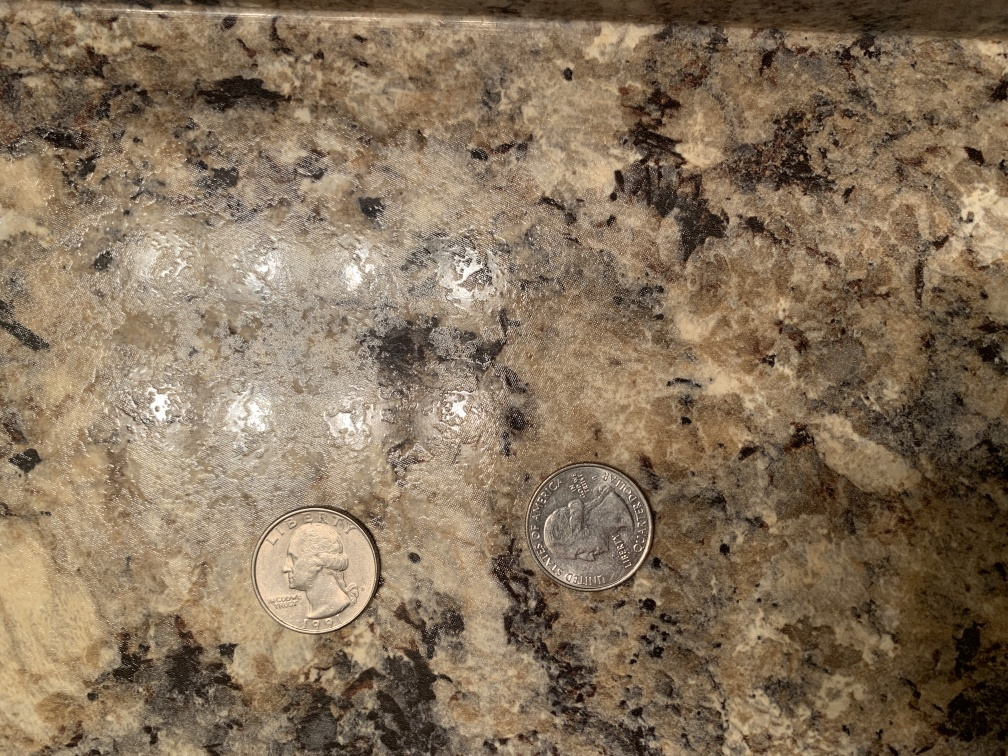quarter: (522, 458, 657, 598), (252, 502, 383, 637)
